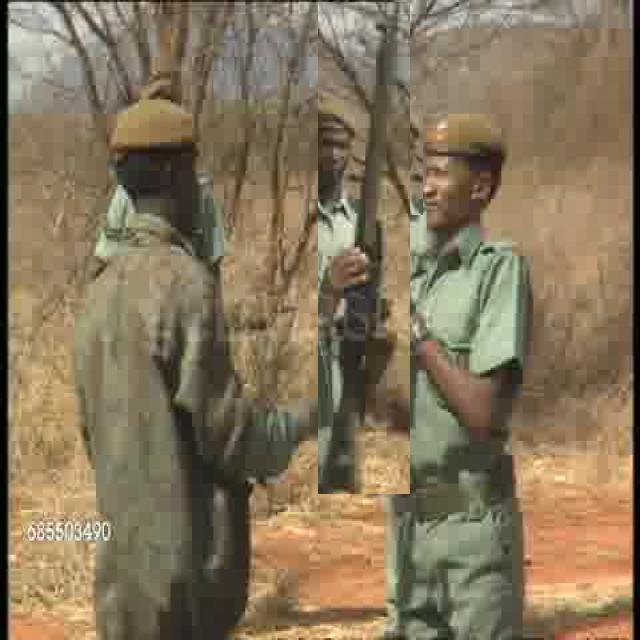poacher: (66, 101, 238, 631), (418, 100, 522, 542), (369, 105, 423, 215)
weapon: (318, 2, 411, 494)
